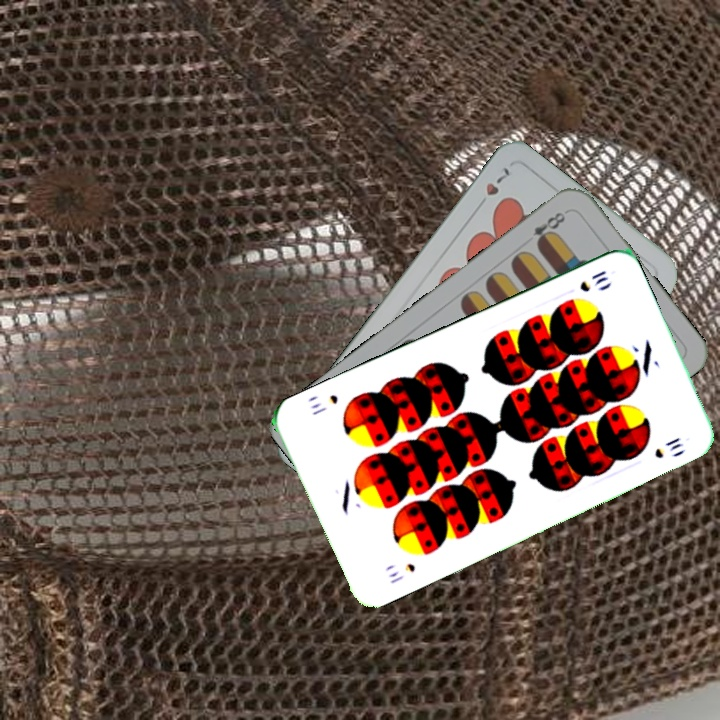E8: (528, 206, 571, 250)
H7: (472, 163, 512, 212)
S10: (575, 266, 611, 295), (384, 559, 418, 587)
